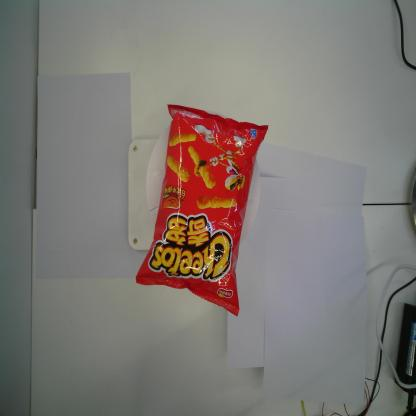Puffed Food: (133, 102, 269, 318)
